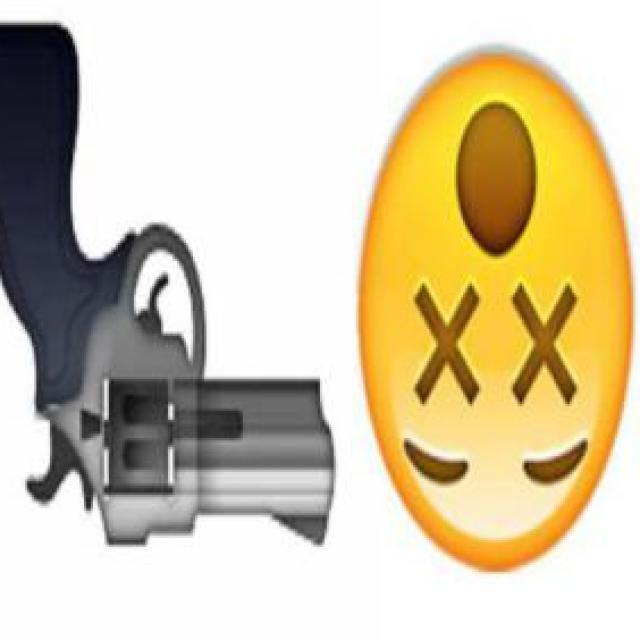pistol: (0, 22, 338, 570)
